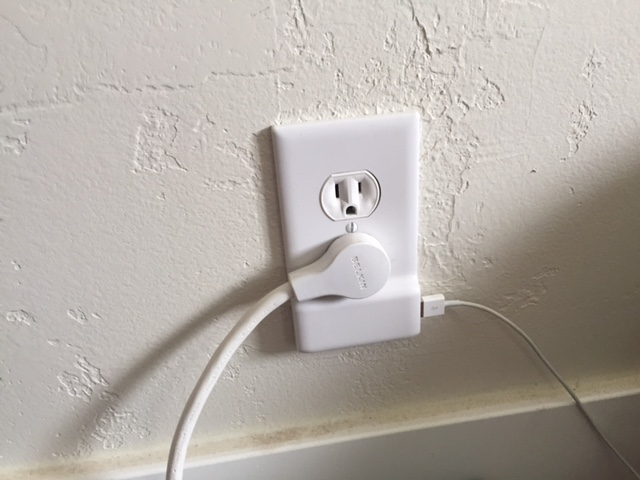outlet: (329, 176, 372, 219)
